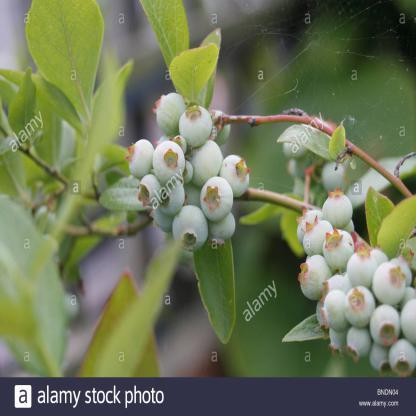Blueberry leaf: (20, 0, 104, 136), (188, 233, 243, 356), (166, 29, 228, 109), (364, 184, 416, 258)
